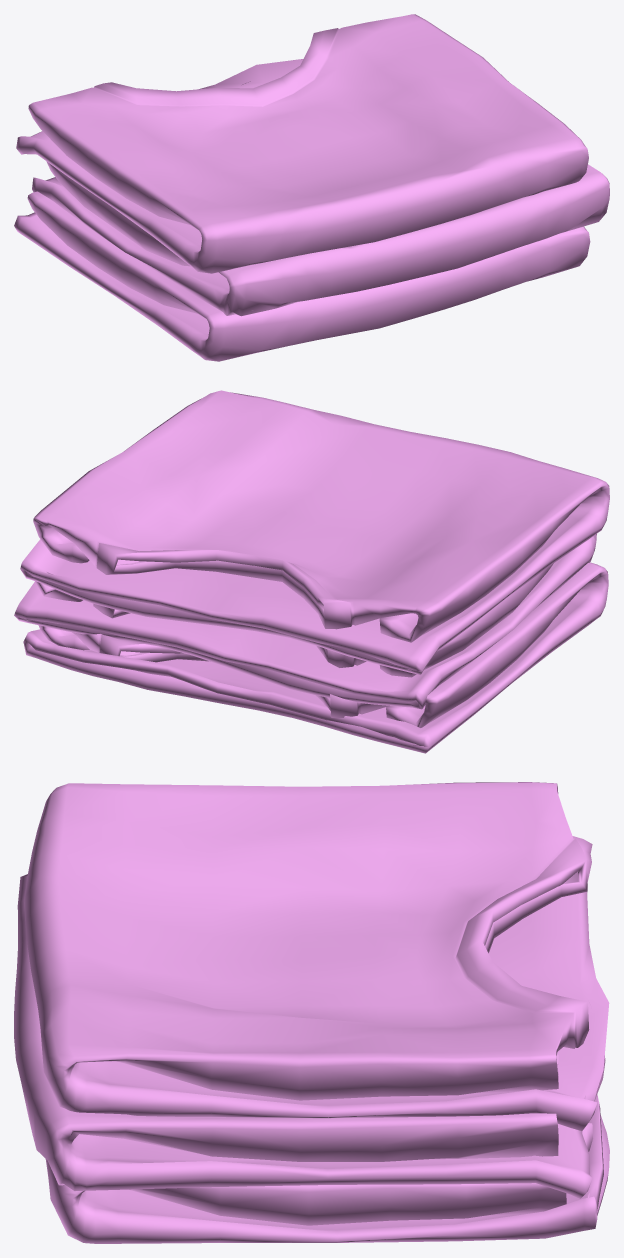
The model's file is Folded_T_Shirt21.fbx.
3 renders of one model, top to bottom at view 1: azimuth 30°, elevation 25°; view 2: azimuth 150°, elevation 25°; view 3: azimuth 270°, elevation 25°, orthographic. The views are drawn at different scales.
Visible parts, largest first — view 1: Folded_T_Shirt21; view 2: Folded_T_Shirt21; view 3: Folded_T_Shirt21.
Boxes of the visible parts, bbox=[...] form: Folded_T_Shirt21: bbox=[14, 14, 609, 361]; Folded_T_Shirt21: bbox=[14, 390, 609, 753]; Folded_T_Shirt21: bbox=[14, 782, 609, 1243].
Size of the model in its own units: 38.43 by 11.89 by 33.24.
